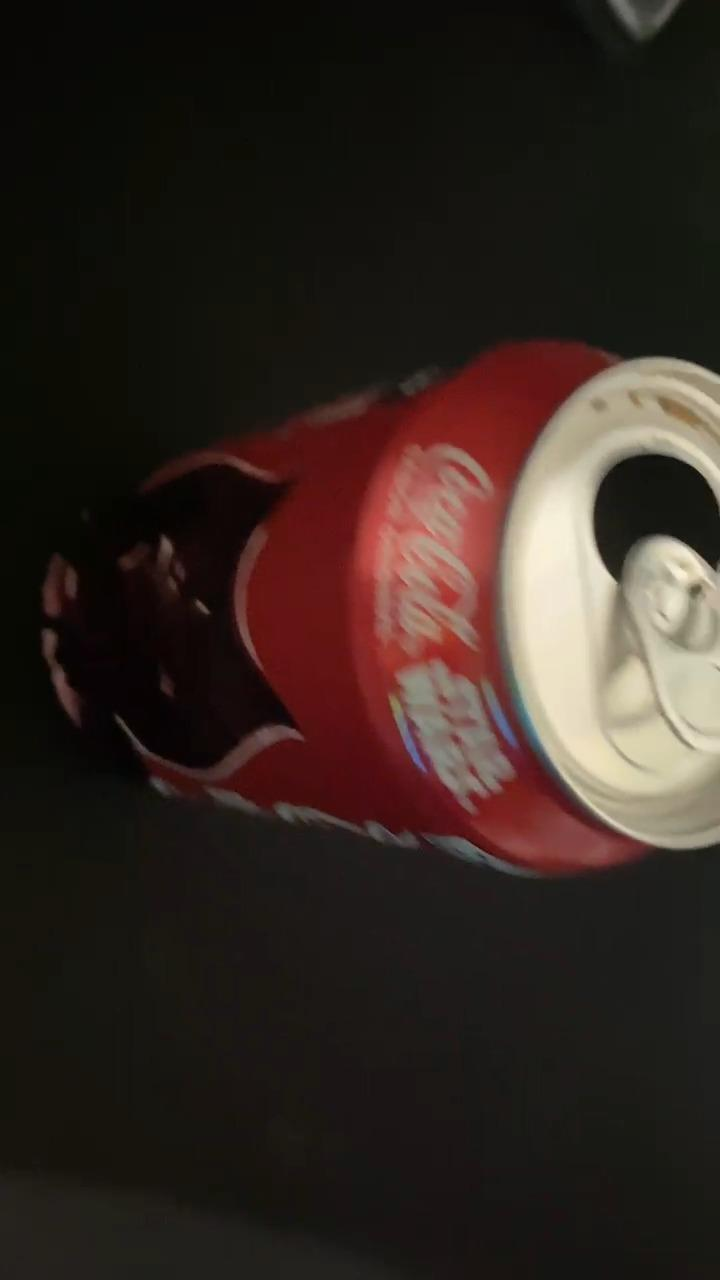coke: (33, 333, 714, 875)
